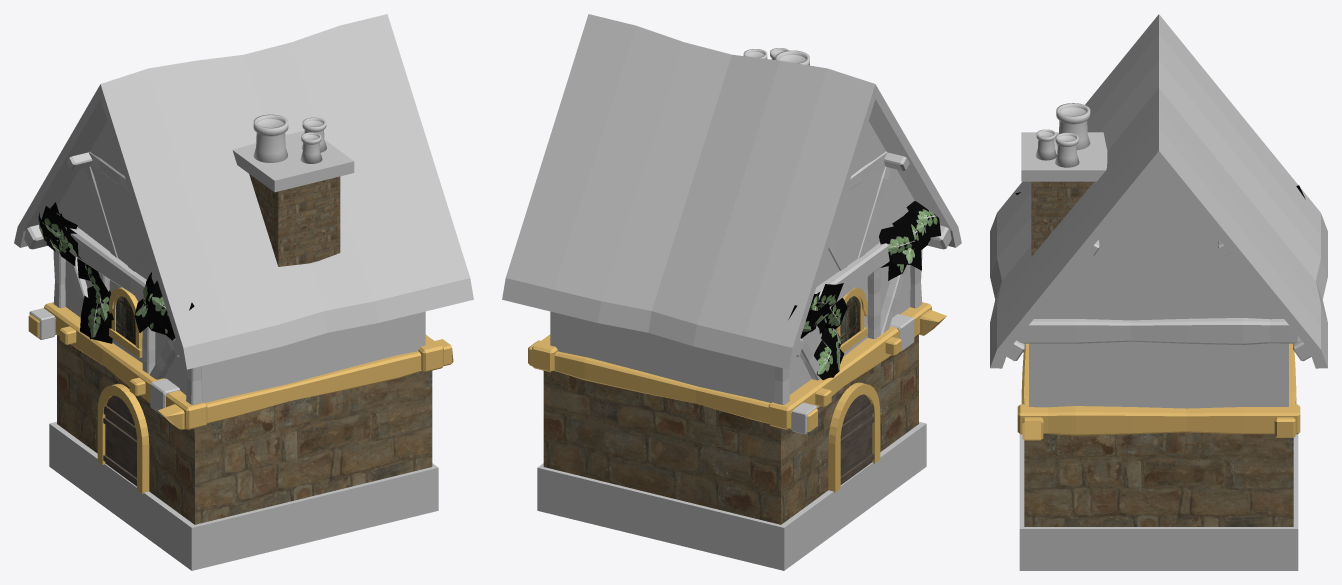
Rendered from house1.fbx.
The picture shows the model from 3 angles, left to right: view 1: azimuth 30°, elevation 25°; view 2: azimuth 150°, elevation 25°; view 3: azimuth 270°, elevation 25°; orthographic projection. The views are drawn at different scales.
Visible parts, largest first — view 1: leef, Plane, Cube.001, Cube.008, Cube.003, Circle.001, Cube.002, Circle.010, Cylinder, Cube.030, Plane.017, Cube.037 (+5 smaller); view 2: leef, Plane, Cube.008, Cube.003, Circle.001, Circle.010, Cube.002, Cube.030, Cube.037, Cube.034, Plane.006, Cube.036 (+4 smaller); view 3: leef, Plane, Cube.003, Cube.002, Cube.001, Cube.008, Cylinder, Cylinder.002, Cylinder.001, Cube.040.
Boxes of the visible parts, bbox=[...] form: leef: bbox=[14, 14, 473, 369]; Plane: bbox=[49, 260, 438, 570]; Cube.001: bbox=[232, 131, 354, 266]; Cube.008: bbox=[28, 314, 453, 430]; Cube.003: bbox=[44, 302, 443, 429]; Circle.001: bbox=[97, 383, 149, 493]; Cube.002: bbox=[56, 227, 146, 300]; Circle.010: bbox=[105, 395, 136, 486]; Cylinder: bbox=[253, 114, 288, 162]; Cube.030: bbox=[53, 244, 202, 404]; Plane.017: bbox=[80, 295, 112, 343]; Cube.037: bbox=[85, 166, 147, 271]; leef: bbox=[502, 14, 961, 369]; Plane: bbox=[537, 265, 926, 570]; Cube.008: bbox=[528, 310, 946, 432]; Cube.003: bbox=[532, 302, 931, 429]; Circle.001: bbox=[828, 382, 880, 492]; Circle.010: bbox=[840, 394, 872, 484]; Cube.002: bbox=[814, 242, 889, 309]; Cube.030: bbox=[773, 249, 922, 404]; Cube.037: bbox=[828, 166, 890, 270]; Cube.034: bbox=[867, 267, 881, 339]; Plane.006: bbox=[879, 221, 914, 267]; Cube.036: bbox=[880, 264, 908, 333]; leef: bbox=[990, 14, 1327, 368]; Plane: bbox=[1019, 341, 1298, 570]; Cube.003: bbox=[1017, 404, 1300, 435]; Cube.002: bbox=[1016, 318, 1300, 344]; Cube.001: bbox=[1021, 132, 1107, 256]; Cube.008: bbox=[1021, 343, 1296, 440]; Cylinder: bbox=[1056, 103, 1090, 150]; Cylinder.002: bbox=[1055, 132, 1079, 167]; Cylinder.001: bbox=[1035, 129, 1056, 160]; Cube.040: bbox=[1006, 340, 1311, 361].
Size of the model in its own units: 706 by 1030 by 728.
